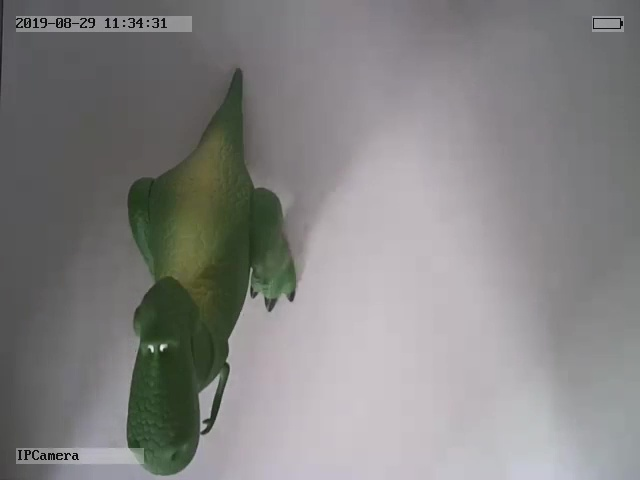rex: (125, 67, 301, 476)
